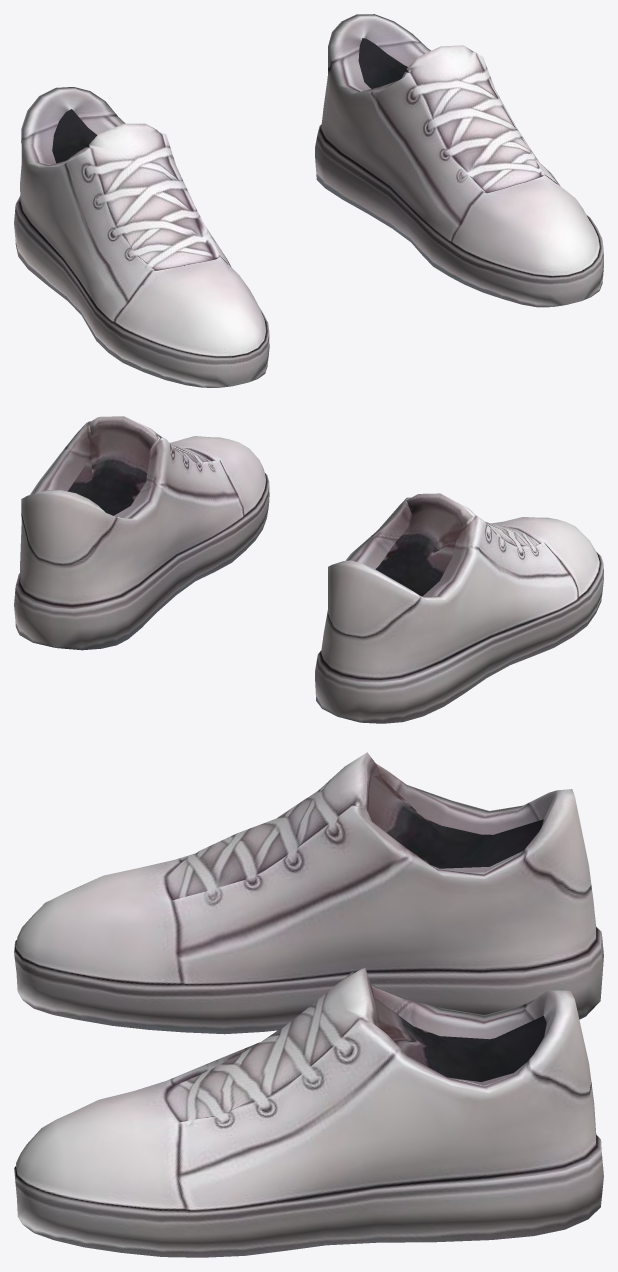
The model's file is shoe.glb.
3 renders of one model, top to bottom at view 1: azimuth 30°, elevation 25°; view 2: azimuth 150°, elevation 25°; view 3: azimuth 270°, elevation 25°, orthographic. The views are drawn at different scales.
Parts seen in each view (by area): view 1: Wolf3D_Outfit_Footwear; view 2: Wolf3D_Outfit_Footwear; view 3: Wolf3D_Outfit_Footwear.
Part boxes in pixels (x1,y1,x2,y2): Wolf3D_Outfit_Footwear: (14,14,603,387); Wolf3D_Outfit_Footwear: (14,416,603,723); Wolf3D_Outfit_Footwear: (14,752,603,1257).
Size of the model in its own units: 0.4621 by 0.1591 by 0.3627.
1 material, 1 textured.
